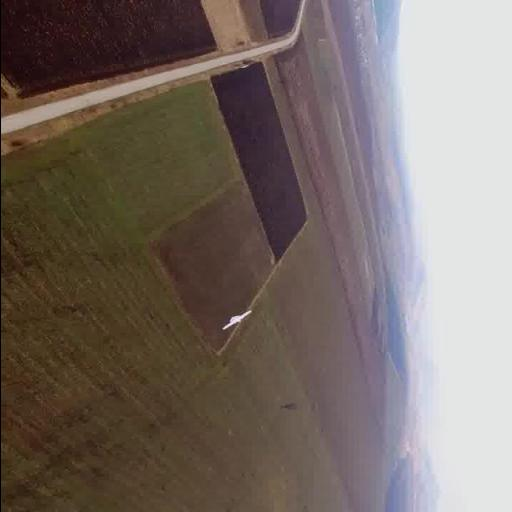uav: (216, 308, 254, 334)
